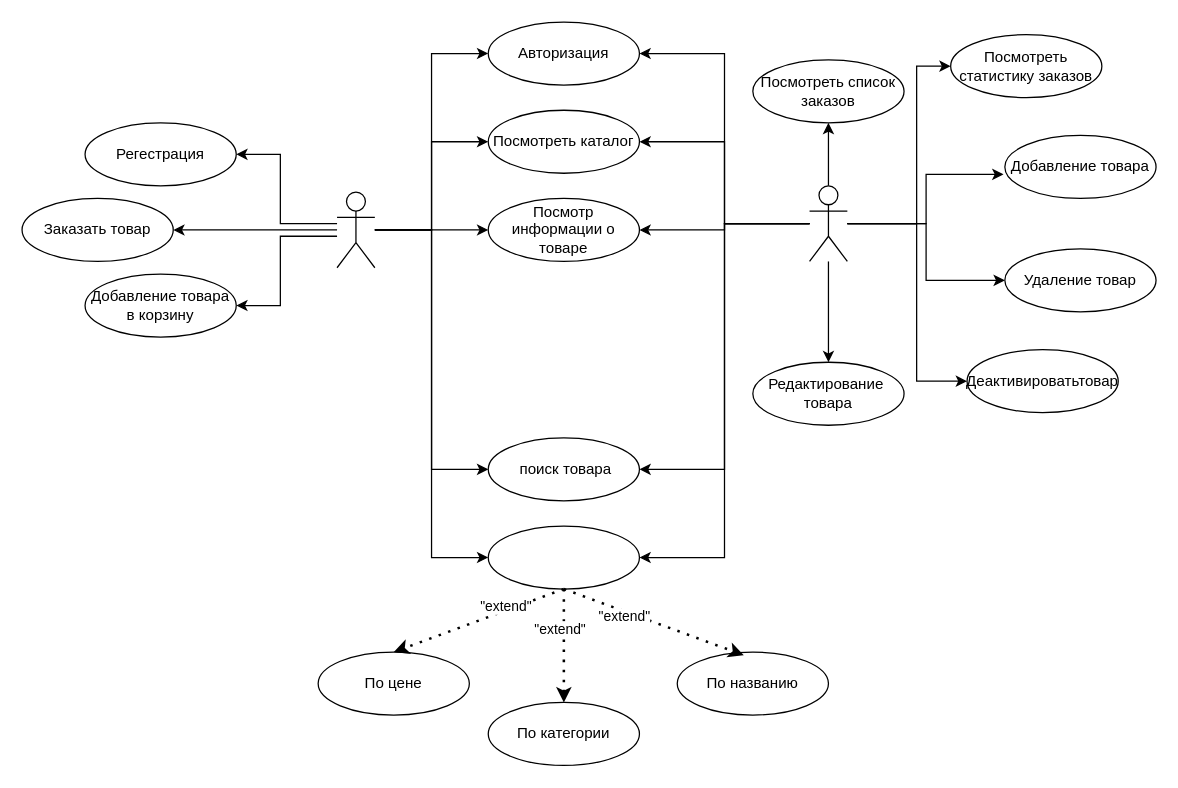
The diagram is 1178 pixels wide and 788 high, and some of its shapes have lost their labels. Each missing label, with the centre of its shape:
Администратор: point 827,223
Пользователь: point 355,229
фильтрации товаров: point 563,557
